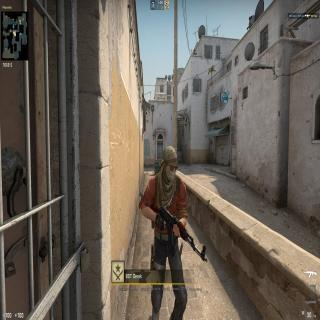T-Head: (160, 142, 178, 186)
